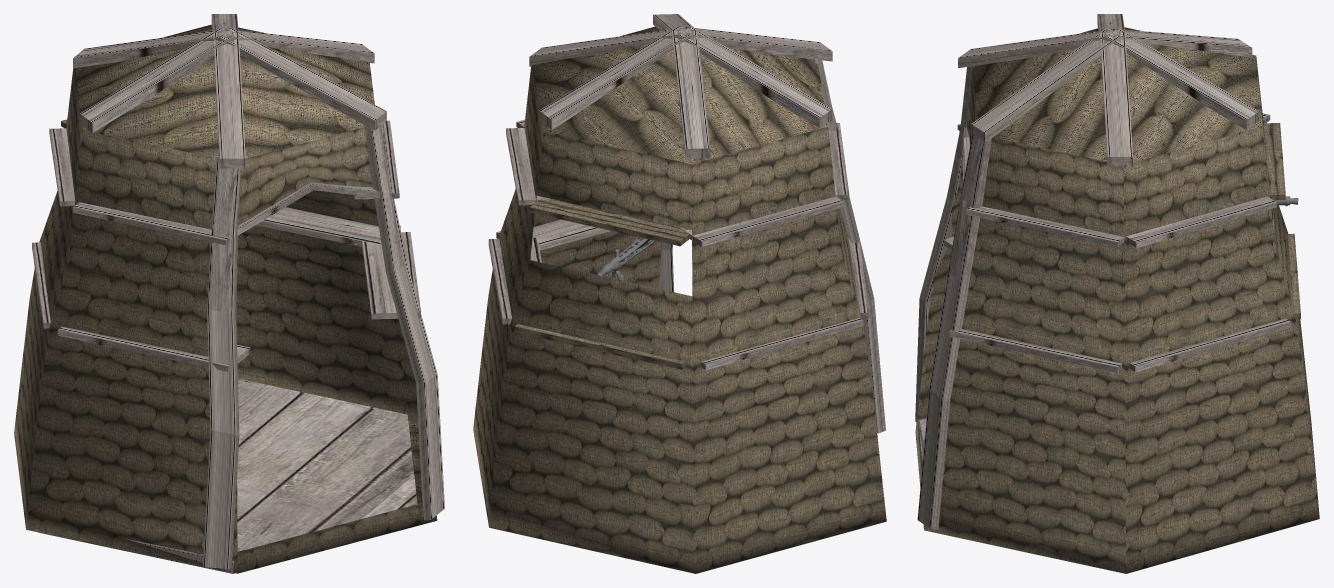
File: pillboxes.fbx
3 views of the same model, side by side, from view 1: azimuth 30°, elevation 25°; view 2: azimuth 150°, elevation 25°; view 3: azimuth 270°, elevation 25° (orthographic).
Visible parts, largest first — view 1: Cylinder, Cylinder.064, Cube.018, Cube.017, Cube.012, Cube.014, Cube.015, Cube.004, Cube.005, Cube.013, Cube.001, Cube.011 (+6 smaller); view 2: Cylinder, Cube.014, Cube.012, Cube.013, Cube.009, Cube.018, Cube.010, Cube.002, Cube.003, Cube.008, Cube.005, Cube.004 (+4 smaller); view 3: Cylinder, Cube.017, Cube.014, Cube.012, Cube.015, Cube.018, Cube.008, Cube.007, Cube.005, Cube.013, Cube.004, Cube.016 (+2 smaller).
Part boxes in pixels (bbox=[...]): Cylinder: bbox=[14, 24, 437, 573]; Cylinder.064: bbox=[38, 378, 417, 573]; Cube.018: bbox=[203, 226, 239, 568]; Cube.017: bbox=[372, 186, 444, 520]; Cube.012: bbox=[80, 28, 374, 132]; Cube.014: bbox=[211, 14, 245, 168]; Cube.015: bbox=[220, 28, 386, 130]; Cube.004: bbox=[256, 207, 400, 246]; Cube.005: bbox=[362, 232, 420, 319]; Cube.013: bbox=[73, 28, 231, 68]; Cube.001: bbox=[57, 326, 250, 371]; Cube.011: bbox=[72, 202, 229, 245]; Cylinder: bbox=[473, 26, 886, 573]; Cube.014: bbox=[539, 26, 832, 129]; Cube.012: bbox=[529, 26, 832, 128]; Cube.013: bbox=[672, 30, 710, 158]; Cube.009: bbox=[529, 197, 689, 246]; Cube.018: bbox=[827, 122, 885, 433]; Cube.010: bbox=[680, 196, 844, 246]; Cube.002: bbox=[701, 318, 863, 369]; Cube.003: bbox=[514, 324, 685, 369]; Cube.008: bbox=[506, 128, 552, 205]; Cube.005: bbox=[496, 219, 610, 250]; Cube.004: bbox=[488, 237, 541, 324]; Cylinder: bbox=[915, 27, 1319, 573]; Cube.017: bbox=[917, 194, 983, 529]; Cube.014: bbox=[958, 28, 1259, 129]; Cube.012: bbox=[1097, 14, 1132, 166]; Cube.015: bbox=[971, 28, 1119, 142]; Cube.018: bbox=[915, 126, 966, 422]; Cube.008: bbox=[1126, 196, 1276, 247]; Cube.007: bbox=[966, 206, 1124, 247]; Cube.005: bbox=[949, 329, 1122, 372]; Cube.013: bbox=[1106, 28, 1252, 57]; Cube.004: bbox=[1129, 318, 1291, 372]; Cube.016: bbox=[961, 135, 991, 207].
Bounding box in the file's own units: 221 × 232 × 192.
177 materials, 13 textured.
